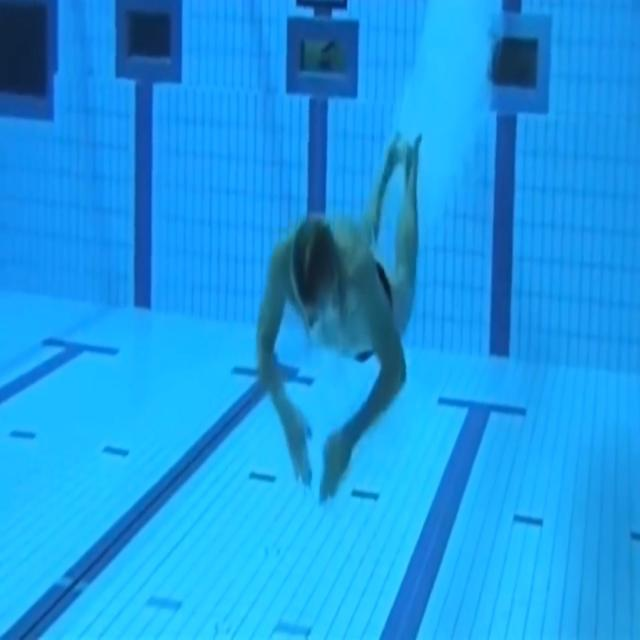Swimming: (257, 134, 422, 503)
